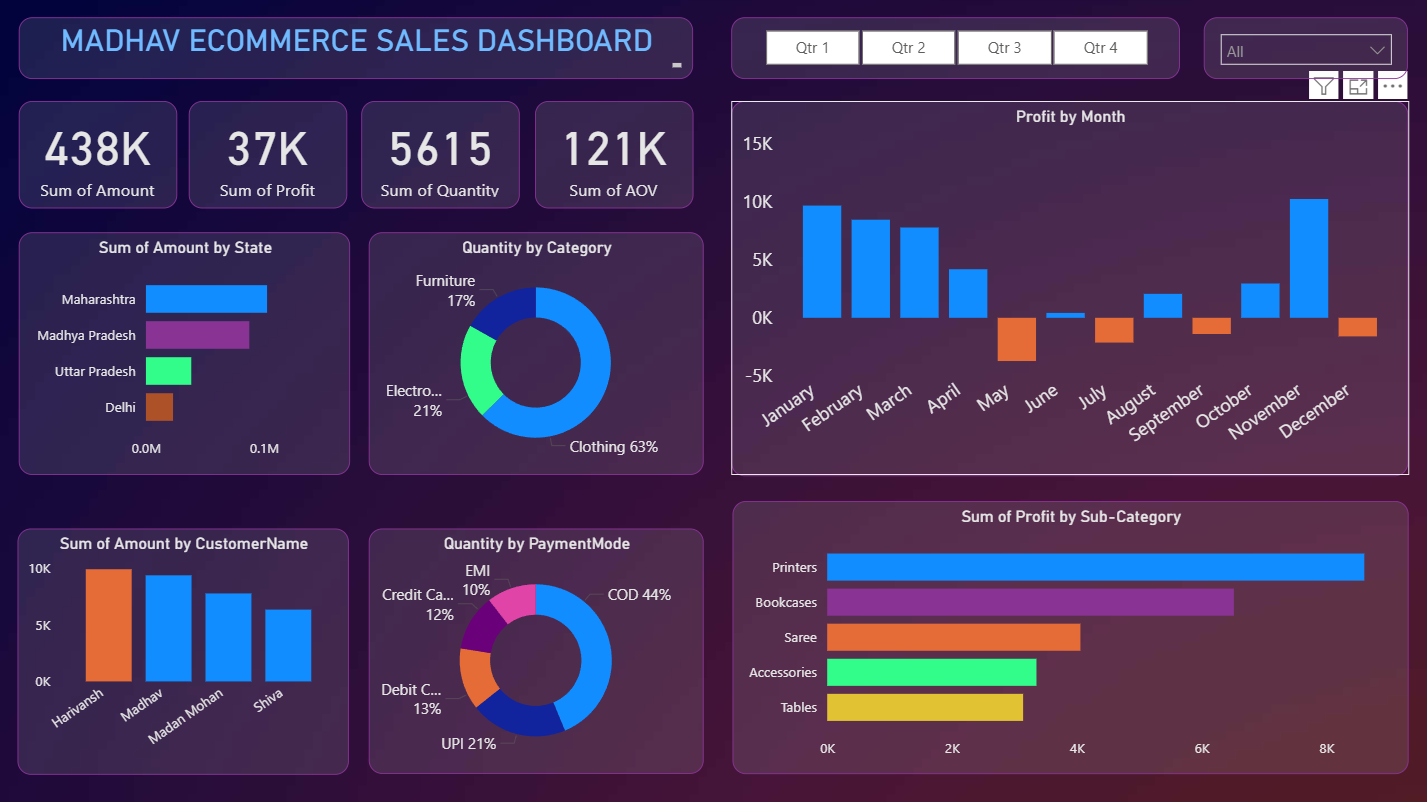

This screenshot's page, from the dashboard's own definition file:
{"tool":"powerbi","page":{"name":"Page 1","canvas":[1280,720],"ordinal":0},"visuals":[{"type":"columnChart","title":"Profit by Month","fields":{"Category":["Orders.Order Date.Variation.Date Hierarchy.Month"],"Y":["Details.Profit"]},"box":[653.2,93.3,605.1,334.8],"z":0},{"type":"barChart","title":"Sum of Profit by Sub-Category","fields":{"Category":["Details.Sub-Category"],"Y":["Details.Profit"]},"box":[654.5,451.5,603.8,244.3],"z":1000},{"type":"donutChart","title":"Quantity by Category","fields":{"Category":["Details.Category"],"Y":["Details.Quantity"]},"box":[329.3,211.3,299.1,216.8],"z":2000},{"type":"donutChart","title":"Quantity by PaymentMode","fields":{"Category":["Details.PaymentMode"],"Y":["Details.Quantity"]},"box":[329.3,476.2,299.1,219.6],"z":3000},{"type":"card","fields":{"Values":["Details.Amount"]},"box":[16.5,93.3,141.3,96.1],"z":4000},{"type":"card","fields":{"Values":["Details.AOV"]},"box":[477.5,93.3,141.3,96.1],"z":5000},{"type":"card","fields":{"Values":["Details.Quantity"]},"box":[322.5,93.3,141.3,96.1],"z":6000},{"type":"card","fields":{"Values":["Details.Profit"]},"box":[168.8,93.3,141.3,96.1],"z":7000},{"type":"barChart","title":"Sum of Amount by State","fields":{"Category":["Orders.State"],"Y":["Details.Amount"]},"box":[16.5,211.3,296.4,216.8],"z":8000},{"type":"columnChart","fields":{"Category":["Orders.CustomerName"],"Y":["Details.Amount"]},"box":[16,476,296,220],"z":9000},{"type":"textbox","title":"MADHAV ECOMMERCE SALES DASHBOARD","box":[16.5,19.2,602.4,54.9],"z":10000},{"type":"slicer","fields":{"Values":["Orders.Order Date.Variation.Date Hierarchy.Quarter"]},"box":[653.2,19.2,400.7,54.9],"z":10001},{"type":"slicer","fields":{"Values":["Orders.State"]},"box":[1075.8,19.2,182.5,54.9],"z":10002}]}

Visuals, with their boxes in screenshot pixels (x1, y1, x2, y2), scaled from the page's 1280x720 canvas onto the 1427x802 screenshot:
"Profit by Month" columnChart: [728,104,1403,477]
"Sum of Profit by Sub-Category" barChart: [730,503,1403,775]
"Quantity by Category" donutChart: [367,235,701,477]
"Quantity by PaymentMode" donutChart: [367,530,701,775]
card - Details.Amount: [18,104,176,211]
card - Details.AOV: [532,104,690,211]
card - Details.Quantity: [360,104,517,211]
card - Details.Profit: [188,104,346,211]
"Sum of Amount by State" barChart: [18,235,349,477]
columnChart - Orders.CustomerName x Details.Amount: [18,530,348,775]
"MADHAV ECOMMERCE SALES DASHBOARD" textbox: [18,21,690,83]
slicer - Orders.Order Date.Variation.Date Hierarchy.Quarter: [728,21,1175,83]
slicer - Orders.State: [1199,21,1403,83]
